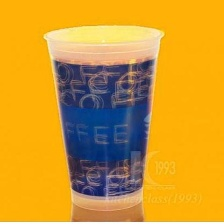glass: (38, 19, 169, 215)
